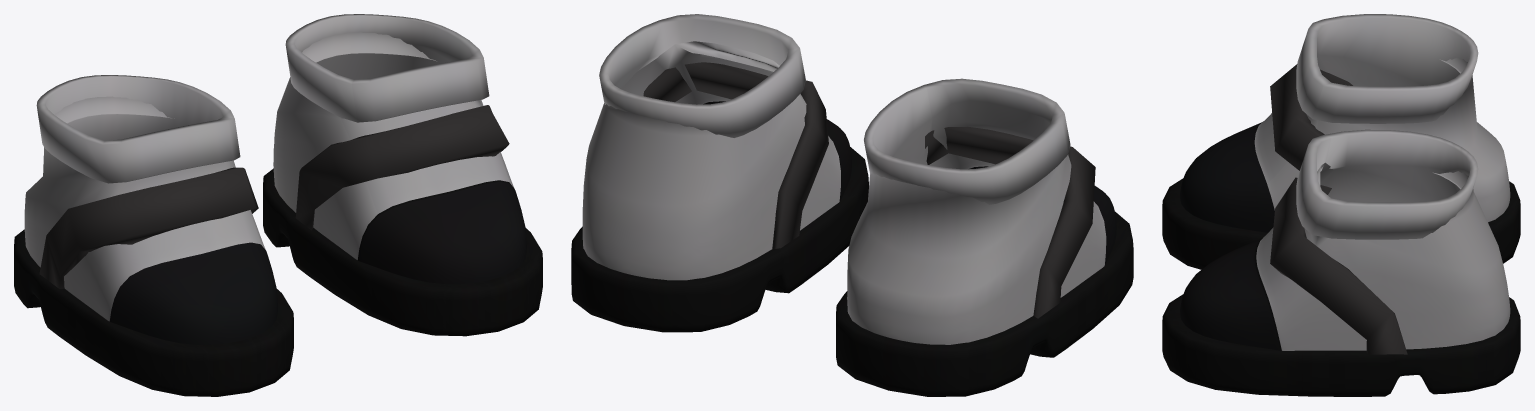
File: Black Strips.glb
3 renders of one model, left to right at view 1: azimuth 30°, elevation 25°; view 2: azimuth 150°, elevation 25°; view 3: azimuth 270°, elevation 25°, orthographic. The views are drawn at different scales.
Parts seen in each view (by area): view 1: Shoes; view 2: Shoes; view 3: Shoes.
Boxes of the visible parts, x1,y1,x2,y2 form: Shoes: [14, 14, 542, 396]; Shoes: [571, 14, 1133, 396]; Shoes: [1162, 14, 1520, 396].
Size of the model in its own units: 0.4652 by 0.2176 by 0.354.
1 material, 1 textured.
